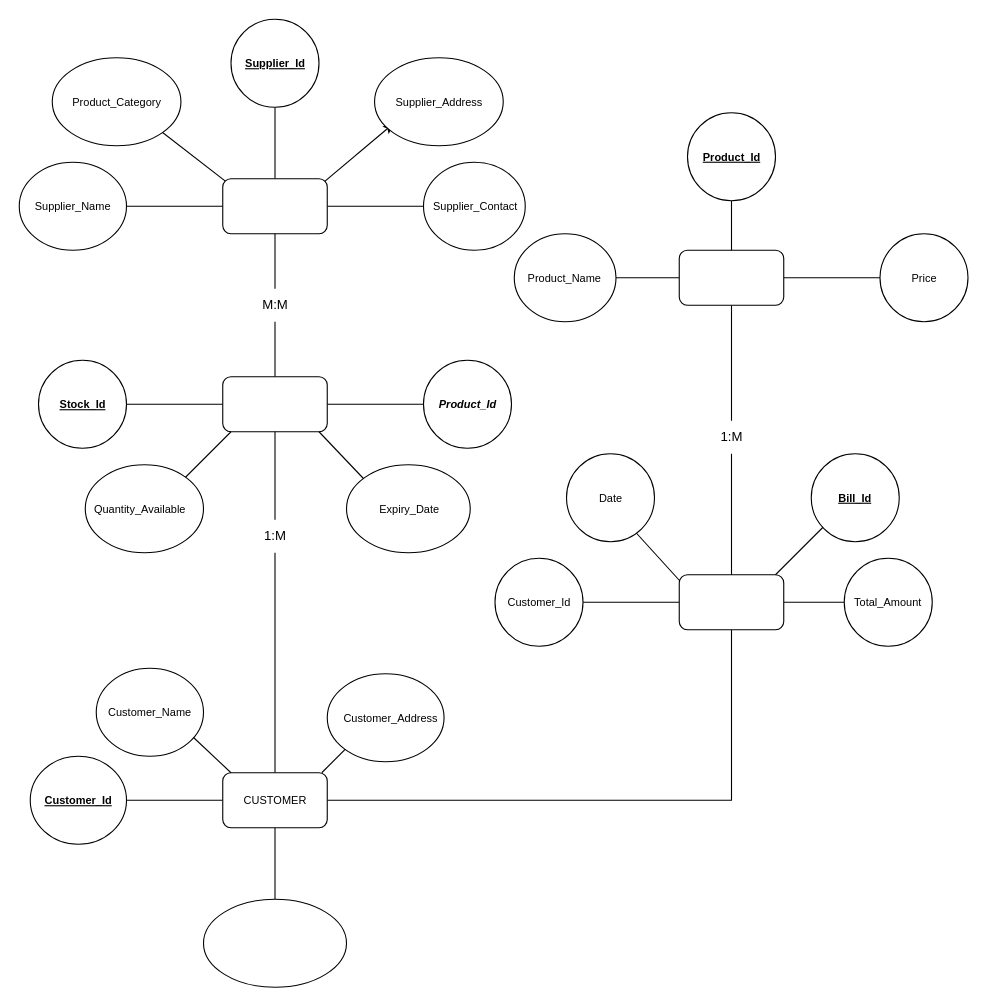
This 988x1007 diagram has some shape labels left out. The shapes that lost their labels are listed below. From the top down, each one's box as (x1, y1, x2, y2) in pixels, then its label:
(222, 178, 327, 234): SUPPLIER
(678, 249, 784, 305): PRODUCT
(222, 376, 327, 432): STOCK
(678, 574, 784, 630): BILL
(202, 898, 346, 987): Customer_Contact
